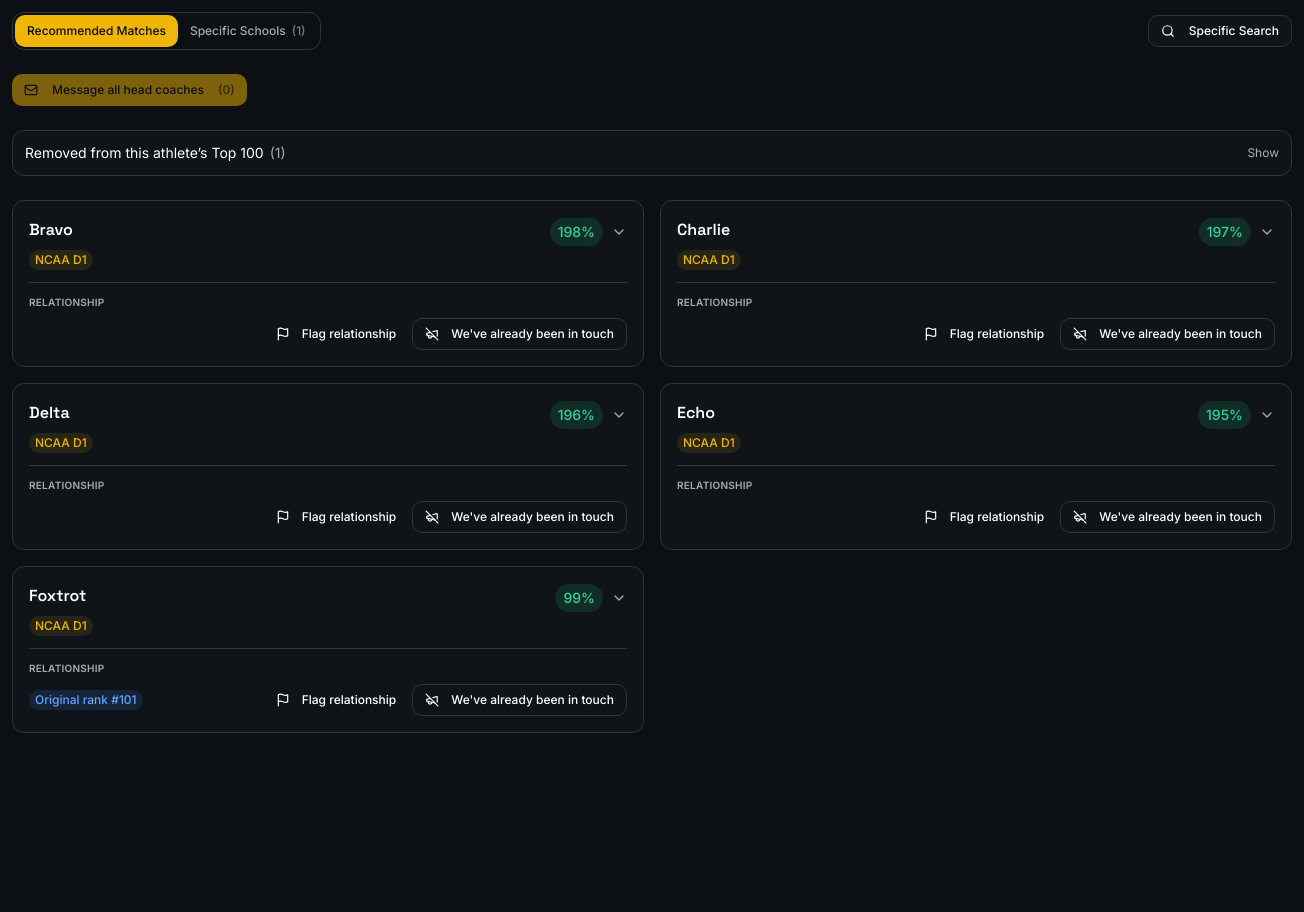
a specifically-requested school that has been suppressed › is still reachable from the restore panel
The image size is (1304, 912).
Click the button "Removed from this athlete’s Top 100(1) Show".
click(144, 152)  # box left=25, top=143, right=1279, bottom=163
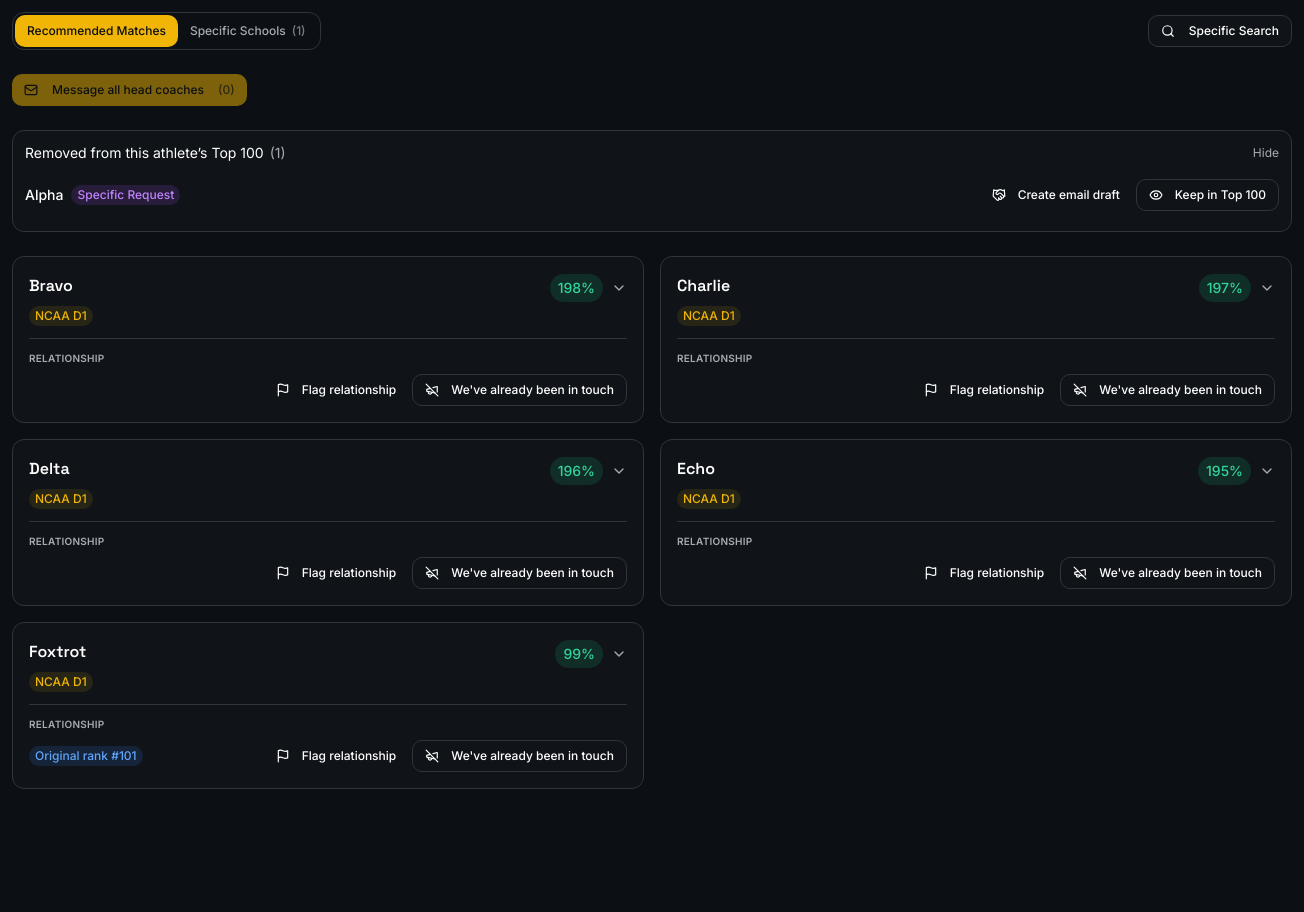
Expected: the list with test id "suppressed-list" shows "Alpha", left=25, top=186, right=64, bottom=203
